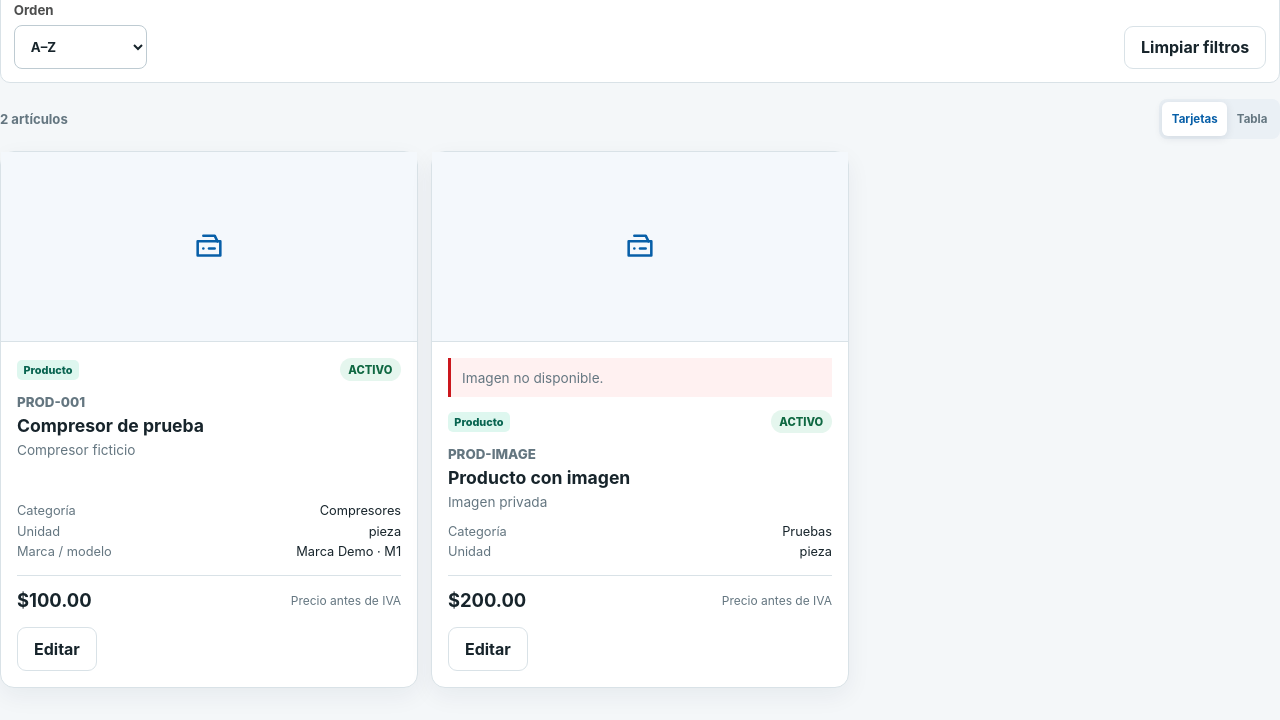
Test: CommercialCatalogPage › habilita administración para admin dentro del editor
(page scrolled)
Click the button "Editar" below "$100.00" at (57, 649), box [17,627,97,671]
(page scrolled)
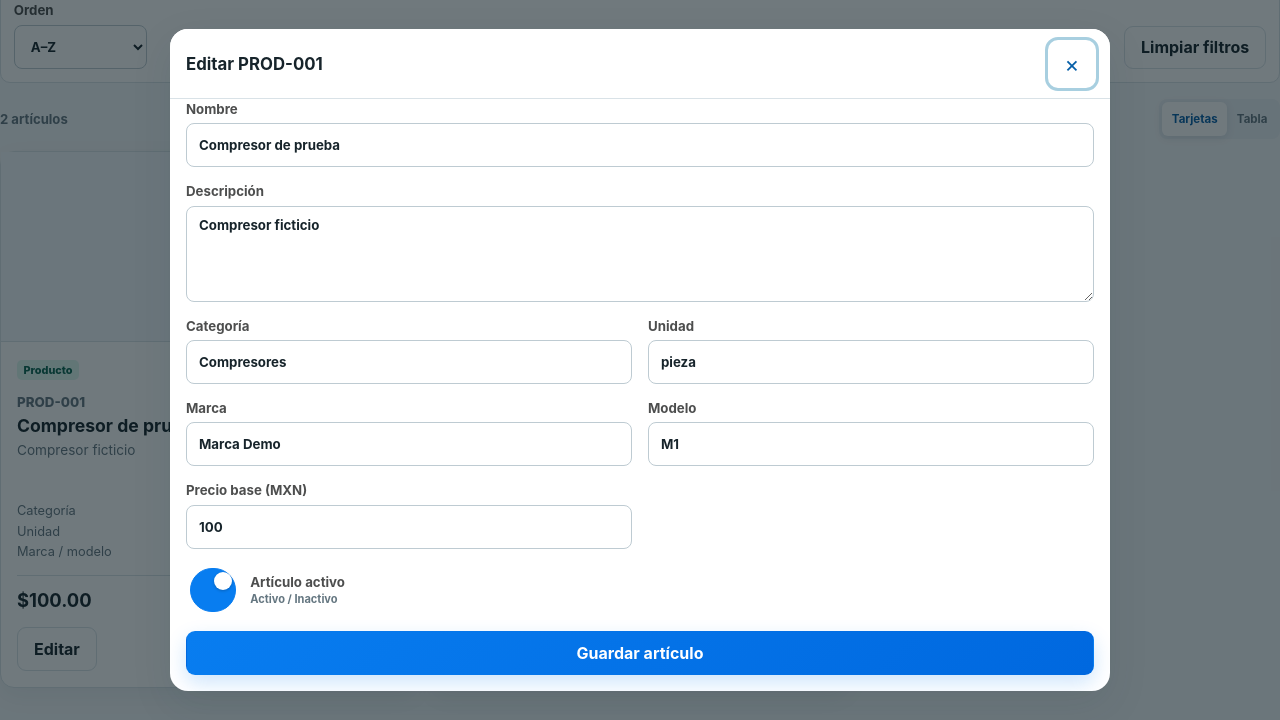
Result: the checkbox labelled "Artículo activo Activo / Inactivo" is checked at [190,568,236,612]
